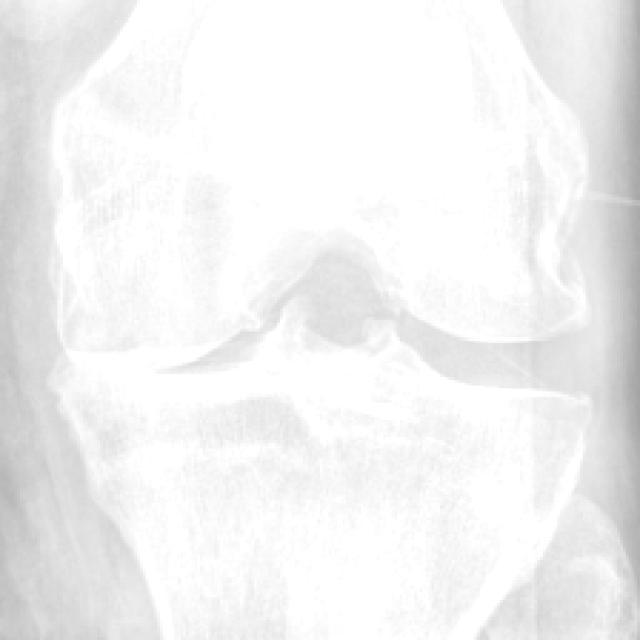femur: (48, 0, 592, 366)
tibia: (47, 311, 593, 640)
